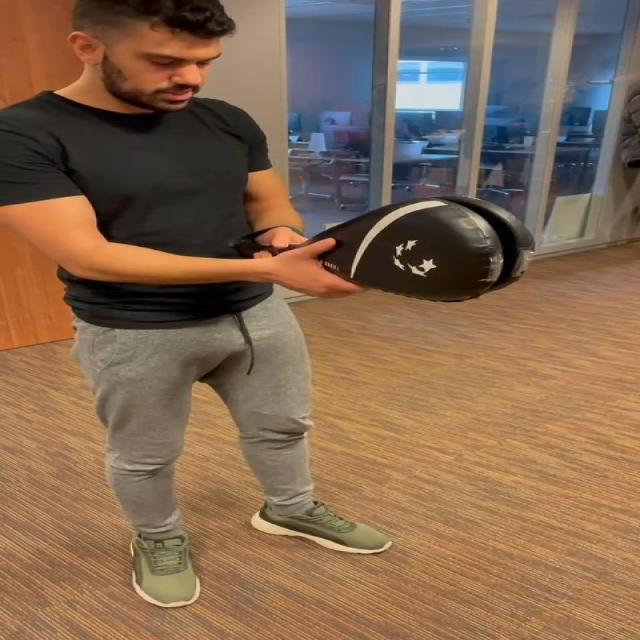paddle: (324, 202, 533, 298)
